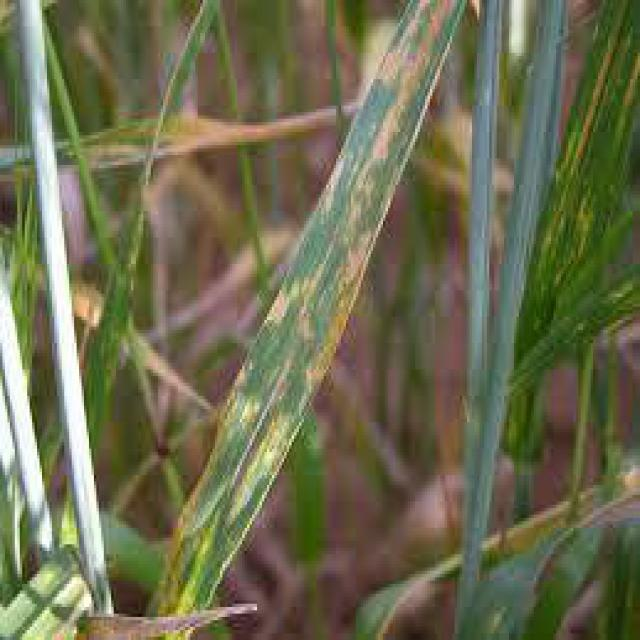wheat-septoria: (142, 0, 463, 619)
